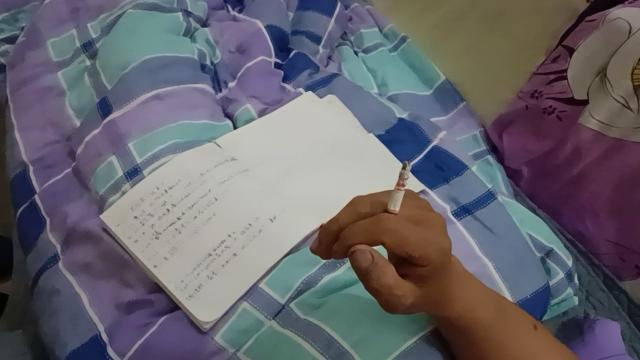Smoking: (381, 162, 413, 226)
